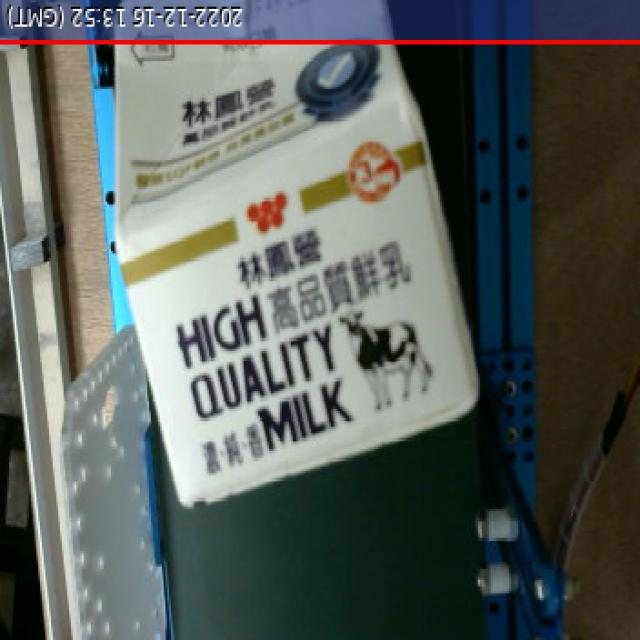non_white_jug: (90, 6, 490, 510)
